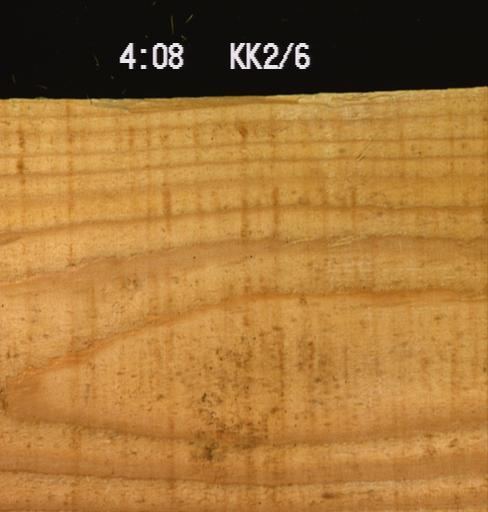wave: (39, 92, 332, 107)
